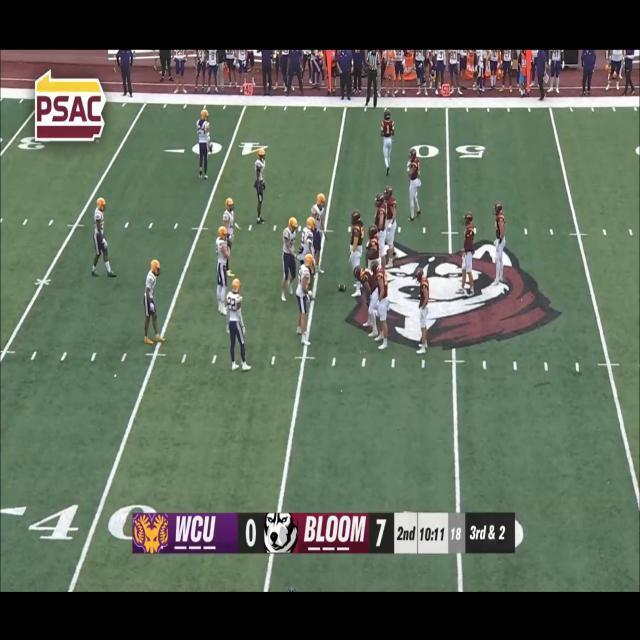football: (336, 282, 348, 294)
